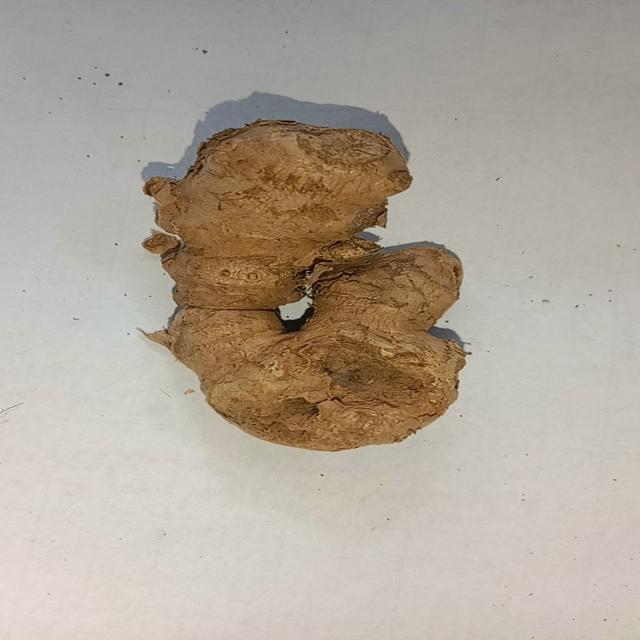ginger: (142, 121, 476, 454)
